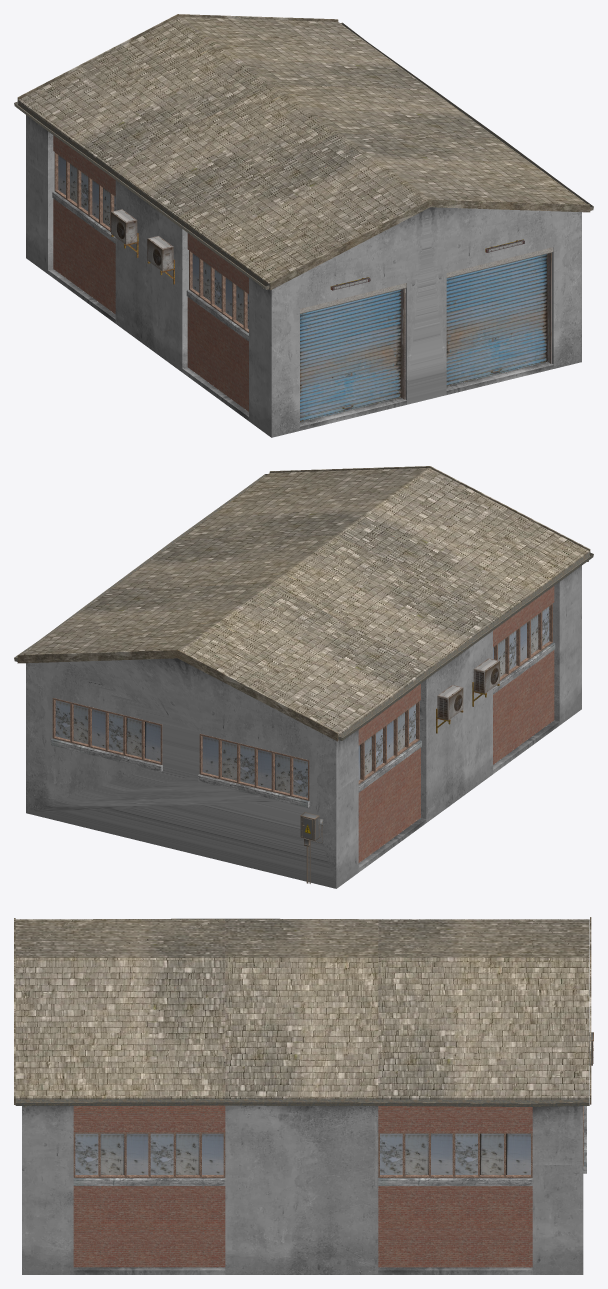
Rendered from small_warehouse_2.glb.
The picture shows the model from 3 angles, top to bottom: view 1: azimuth 30°, elevation 25°; view 2: azimuth 150°, elevation 25°; view 3: azimuth 270°, elevation 25°; orthographic projection. The views are drawn at different scales.
Parts seen in each view (by area): view 1: wood_atlas 784_0, walls_bare_0, DoorsRollup_DoorsRollup_0, brickWalls_brick_0, wideWindow_atlas 512_0, gutter_z854d_0, airconditioning.Low_air conditioning_0; view 2: wood_atlas 784_0, walls_bare_0, wideWindow_atlas 512_0, brickWalls_brick_0, gutter_z854d_0, airconditioning.Low_air conditioning_0, eletricBox-Low_eletricBox_0; view 3: wood_atlas 784_0, walls_bare_0, brickWalls_brick_0, wideWindow_atlas 512_0, gutter_z854d_0.
Boxes of the visible parts, box(x1,y1,x2,y2) form: wood_atlas 784_0: box(17, 14, 590, 290); walls_bare_0: box(26, 115, 581, 437); DoorsRollup_DoorsRollup_0: box(300, 247, 553, 421); brickWalls_brick_0: box(53, 135, 248, 411); wideWindow_atlas 512_0: box(52, 152, 248, 341); gutter_z854d_0: box(14, 22, 593, 289); airconditioning.Low_air conditioning_0: box(111, 209, 174, 284); wood_atlas 784_0: box(17, 466, 590, 741); walls_bare_0: box(26, 566, 581, 888); wideWindow_atlas 512_0: box(51, 603, 555, 807); brickWalls_brick_0: box(358, 586, 554, 862); gutter_z854d_0: box(14, 474, 593, 740); airconditioning.Low_air conditioning_0: box(436, 658, 499, 733); eletricBox-Low_eletricBox_0: box(300, 812, 322, 883); wood_atlas 784_0: box(14, 917, 591, 1104); walls_bare_0: box(22, 1105, 583, 1274); brickWalls_brick_0: box(73, 1105, 532, 1267); wideWindow_atlas 512_0: box(73, 1106, 586, 1185); gutter_z854d_0: box(15, 918, 589, 1107).
Bounding box in the file's own units: 8.63 × 5.03 × 11.35.
9 materials, 9 textured.
